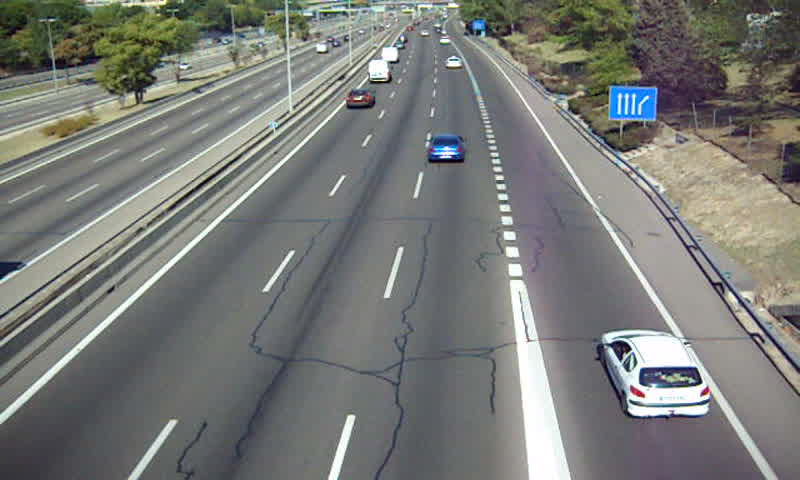car: (601, 329, 711, 420), (426, 133, 468, 164), (346, 88, 375, 108)
van: (366, 60, 394, 84), (381, 45, 398, 60)
